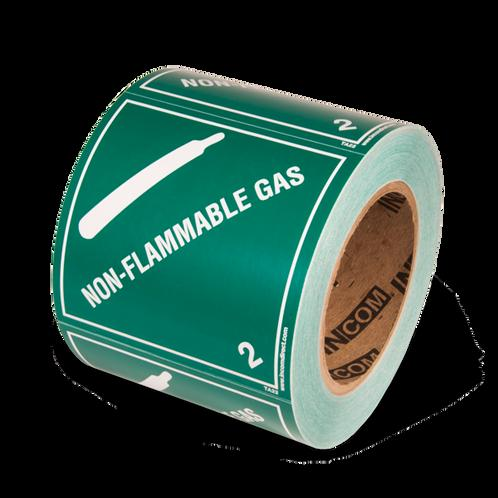non-flammable-gas: (47, 75, 358, 396)
